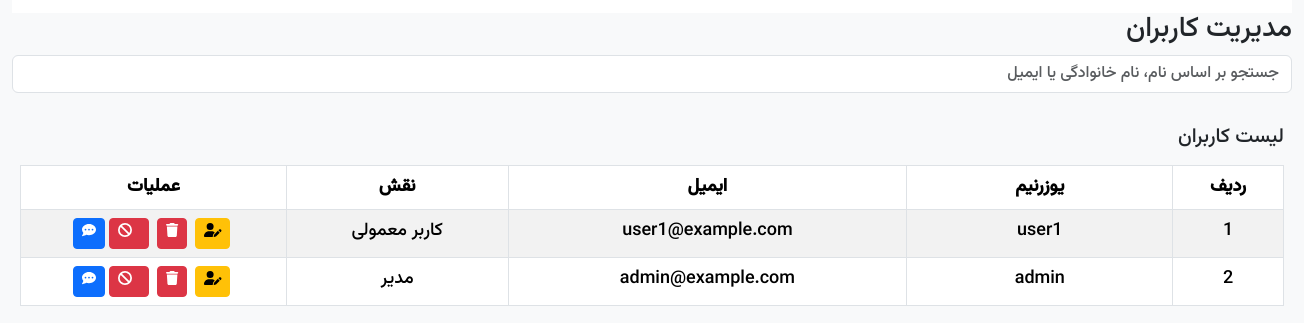
Scenario: UserManagement Component › filters users by search term
The width and height of the screenshot is (1304, 323).
Expected: the text "user1" is shown, [907,209,1173,257]
Type "admin" into the field with placeholder "جستجو بر اساس نام، نام خانوادگی یا ایمیل".
click(652, 74); type("admin")  # box [12,55,1292,93]
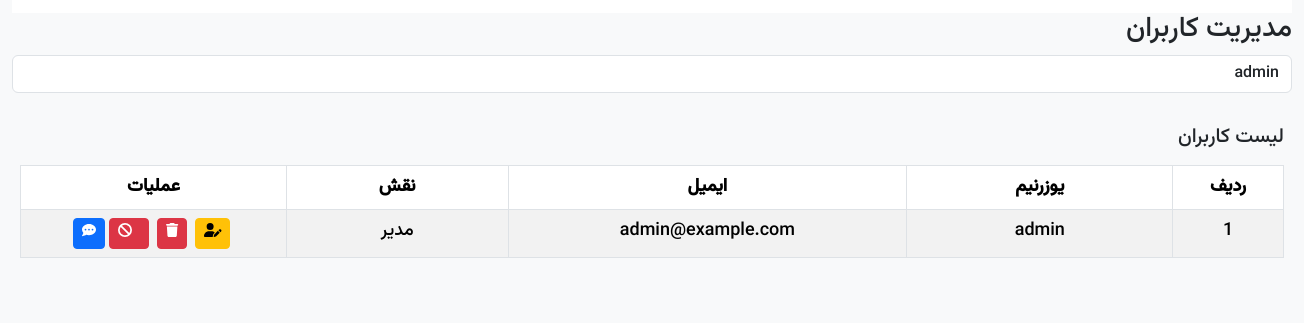
Expected: the text "admin" is shown, [907,209,1173,257]
Now the text "user1" is gone
